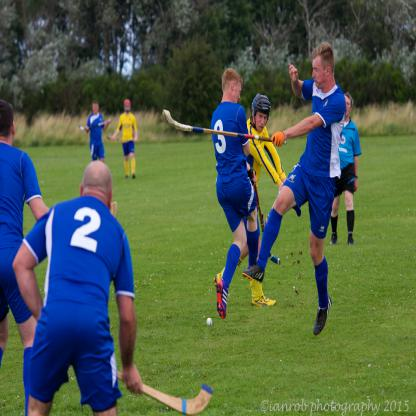Ball: (207, 316, 213, 326)
